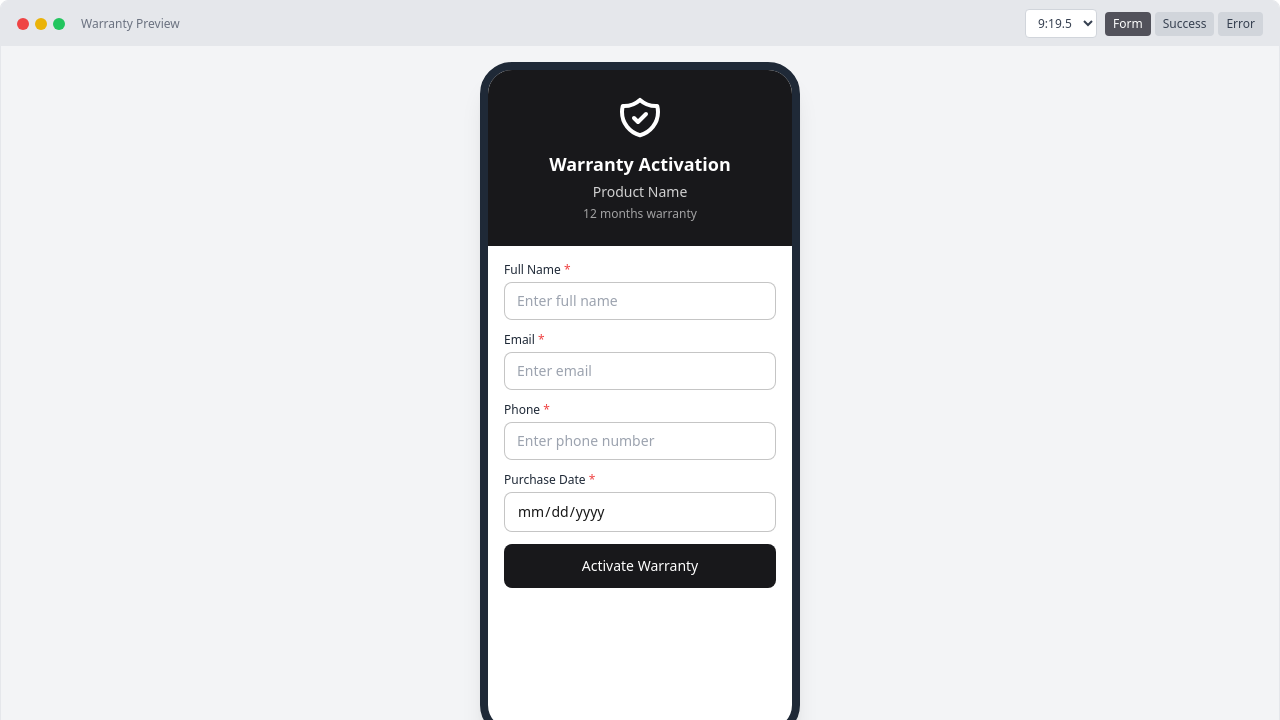
Test: WarrantySettingsPreview › Template config styling › should apply custom success messages
Step 1. Click the button "Success" → click(1184, 24), box [1155,12,1214,36]
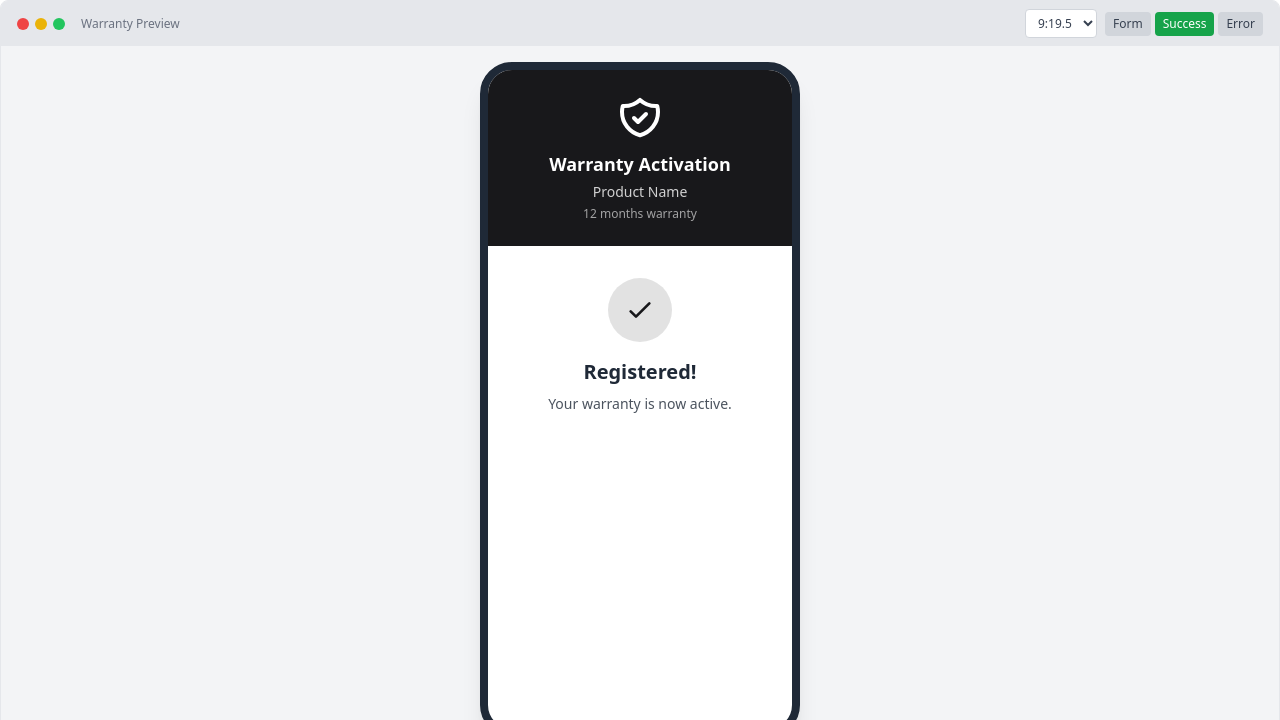
Now the text "Registered!" is shown, box [583,358,696,385]
Now the text "Your warranty is now active." is shown, box [548,394,732,413]
